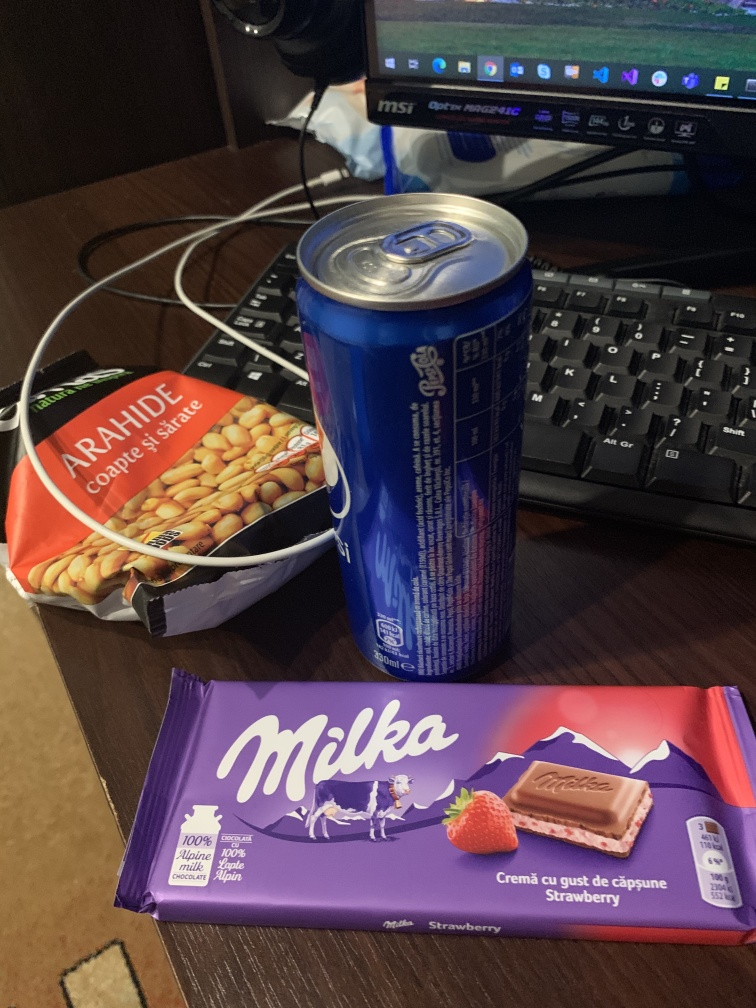milka: (99, 664, 756, 968)
peanuts: (1, 344, 323, 659)
pepsi: (297, 187, 540, 677)
